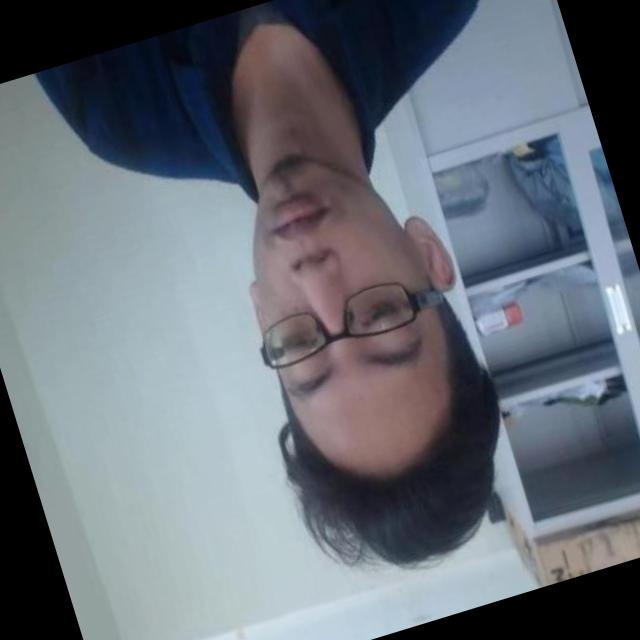bareface: (210, 132, 512, 536)
